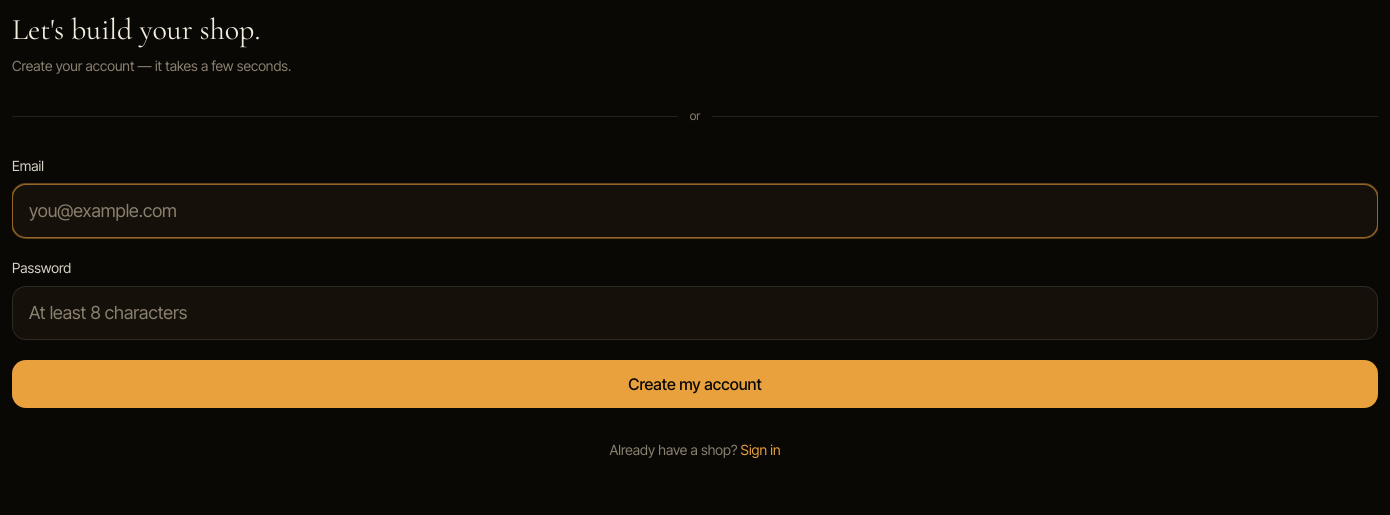
StepAccount › shows the error and does not advance on failure
In the field labelled "Email": (695, 211) [12,184,1378,238], type "maker@example.com"
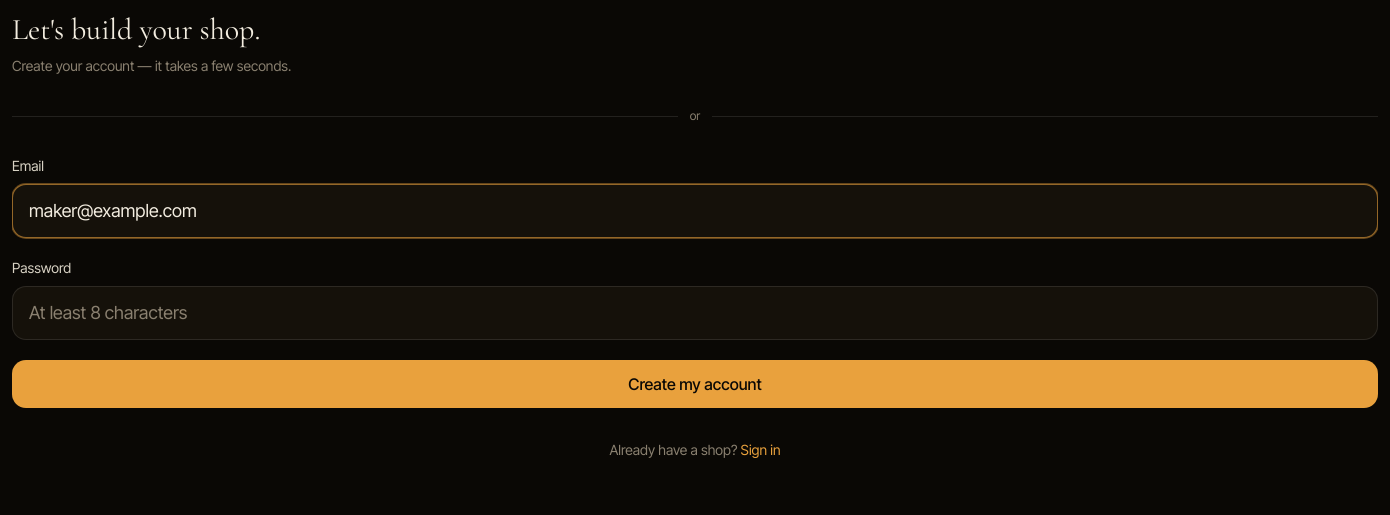
In the password field labelled "Password": (695, 313) [12,286,1378,340], type "sup3rsecret"
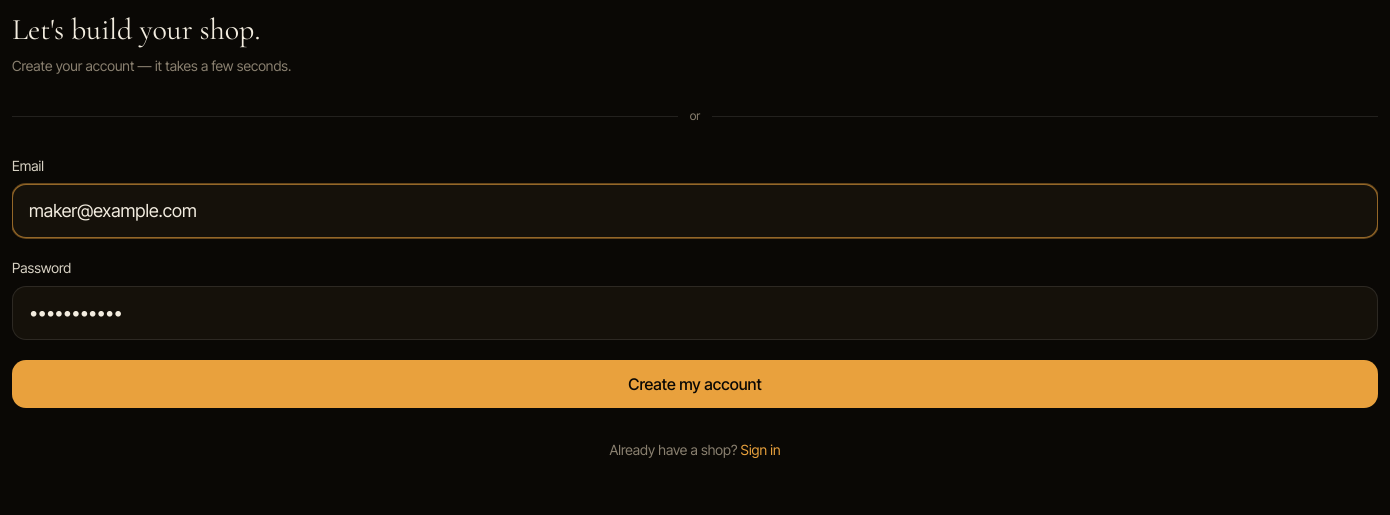
Click the button "Create my account": (695, 384) [12,360,1378,408]
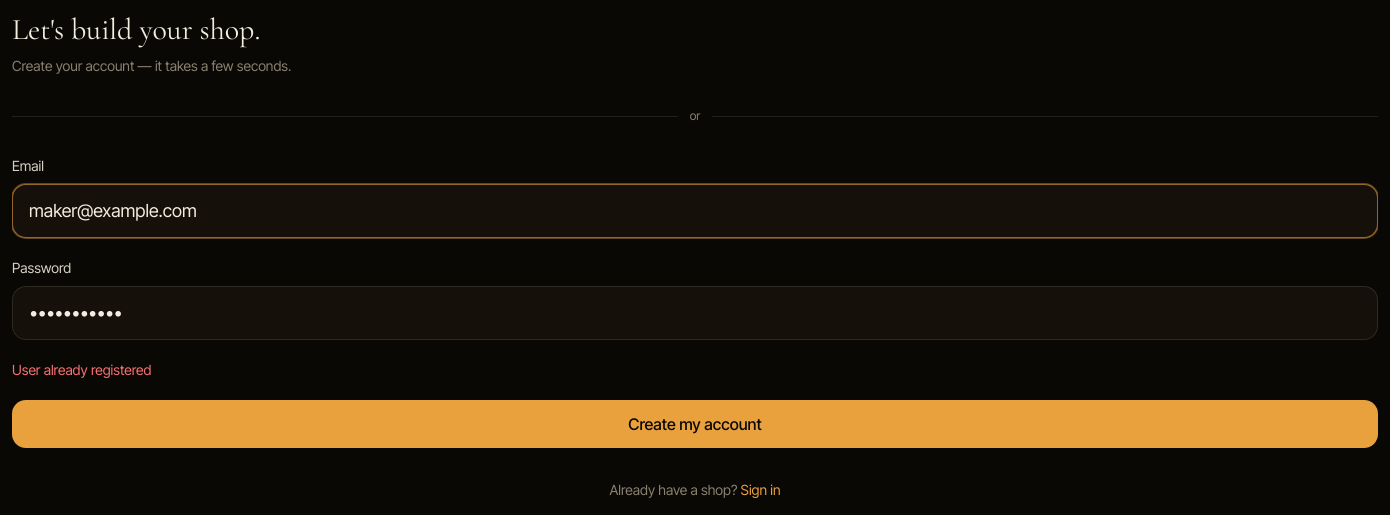
Expected: the text "User already registered" is shown, [12,361,151,378]
